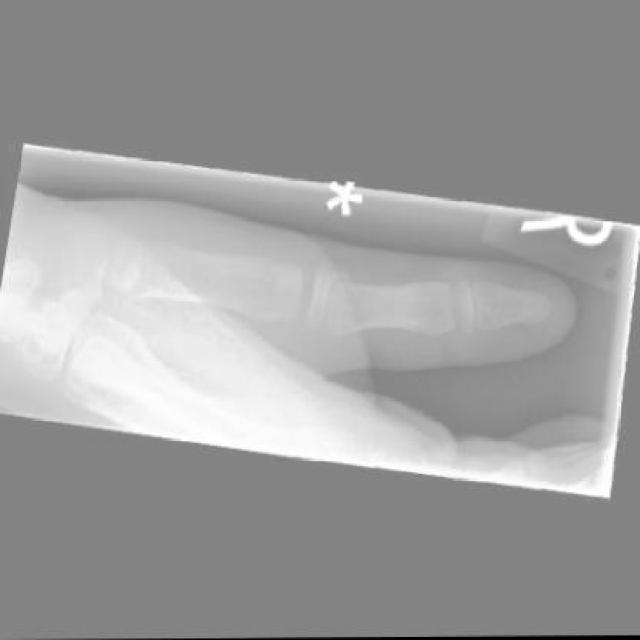Fracture: (318, 263, 377, 342)
